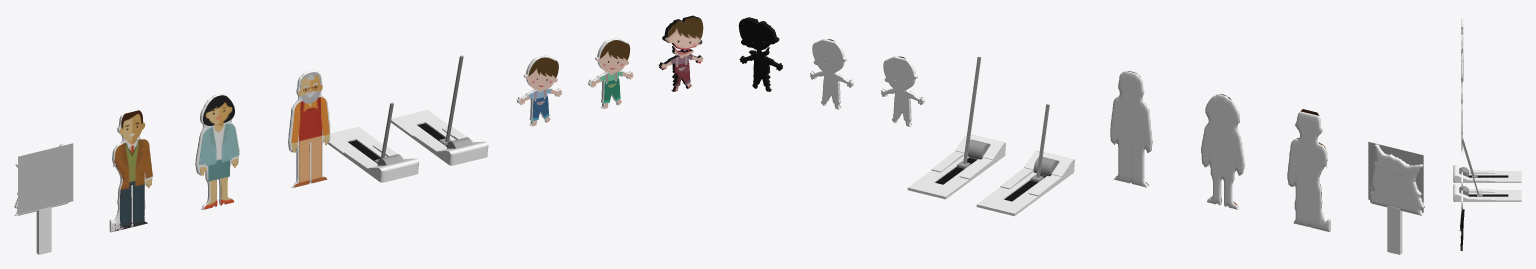
The model's file is Cutouts.fbx.
3 renders of one model, left to right at view 1: azimuth 30°, elevation 25°; view 2: azimuth 150°, elevation 25°; view 3: azimuth 270°, elevation 25°, orthographic. The views are drawn at different scales.
Visible parts, largest first — view 1: 5845e17e7733c3558233c0ef, Normal Man, Old man, Normal Girl 2, Cube, Cube.004, Child Green, Child Blue, Murder Child Top, Plane, Cube.002, Plane.001 (+3 smaller); view 2: Plane, Plane.002, Plane.001, Cube.004, Cube, Plane.003, Plane.005, Plane.004, 5845e17e7733c3558233c0ef, Plane.008, Plane.006, Cube.002 (+1 smaller); view 3: Cube, Cube.004, Plane, Cube.003, Cylinder.001, Plane.008, Plane.003, Cylinder, Plane.006, Cube.006, Cube.002, Plane.002.
Part boxes in pixels (x1,y1,x2,y2): 5845e17e7733c3558233c0ef: [18, 143, 73, 214]; Normal Man: [112, 110, 152, 230]; Old man: [291, 72, 329, 187]; Normal Girl 2: [198, 95, 239, 209]; Cube: [390, 110, 488, 165]; Cube.004: [327, 126, 419, 182]; Child Green: [590, 40, 633, 108]; Child Blue: [519, 57, 562, 126]; Murder Child Top: [665, 17, 703, 49]; Plane: [288, 70, 330, 187]; Cube.002: [36, 206, 51, 254]; Plane.001: [195, 94, 239, 210]; Plane: [1110, 71, 1152, 187]; Plane.002: [1287, 111, 1330, 231]; Plane.001: [1201, 94, 1245, 209]; Cube.004: [976, 150, 1074, 216]; Cube: [907, 134, 1005, 199]; Plane.003: [1370, 144, 1424, 215]; Plane.005: [810, 39, 853, 109]; Plane.004: [881, 56, 924, 126]; 5845e17e7733c3558233c0ef: [1368, 142, 1423, 212]; Plane.008: [738, 17, 779, 50]; Plane.006: [739, 47, 782, 91]; Cube.002: [1387, 205, 1402, 254]; Cube: [1453, 184, 1521, 201]; Cube.004: [1453, 165, 1521, 182]; Plane: [1461, 85, 1462, 154]; Cube.003: [1461, 140, 1479, 194]; Cylinder.001: [1459, 167, 1468, 177]; Plane.008: [1460, 209, 1464, 231]; Plane.003: [1461, 19, 1463, 60]; Cylinder: [1459, 186, 1468, 196]; Plane.006: [1460, 224, 1463, 250]; Cube.006: [1462, 138, 1474, 175]; Cube.002: [1461, 52, 1463, 81]; Plane.002: [1461, 34, 1462, 61].
Bounding box in the file's own units: 3118 × 555 × 477.
